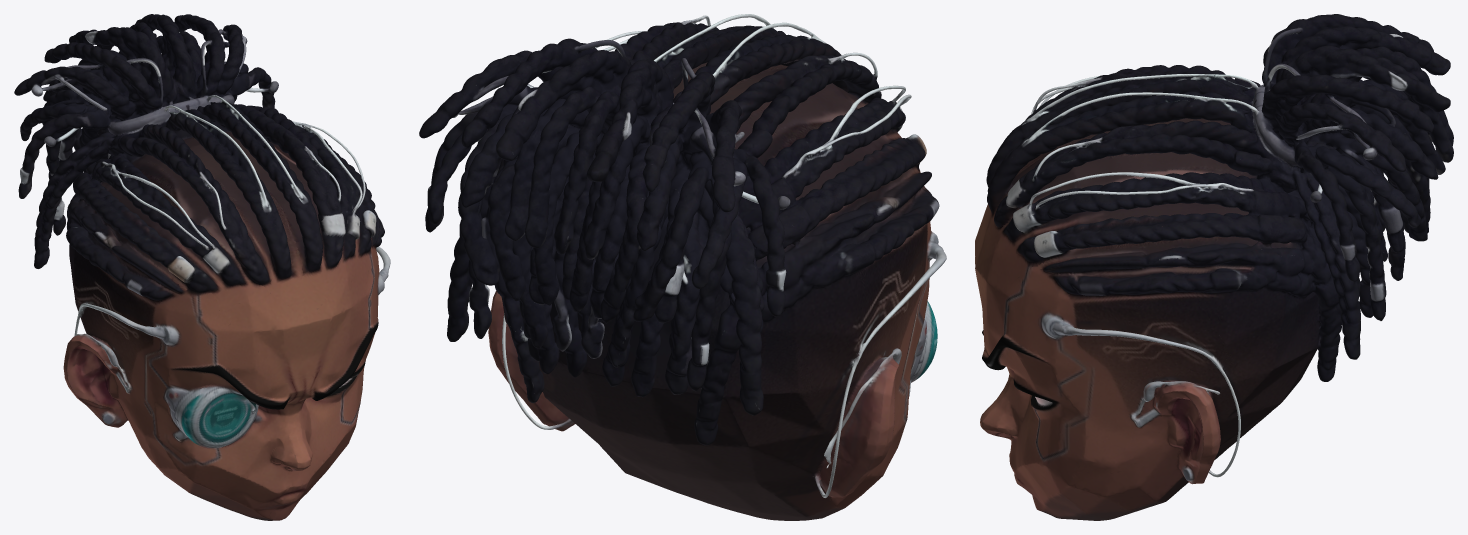
Rendered from jaden.glb.
3 views of the same model, side by side, from view 1: azimuth 30°, elevation 25°; view 2: azimuth 150°, elevation 25°; view 3: azimuth 270°, elevation 25° (orthographic). The views are drawn at different scales.
Bounding box in the file's own units: 1.4 × 1.9 × 1.72.
Materials: 1 (1 with a texture image).
